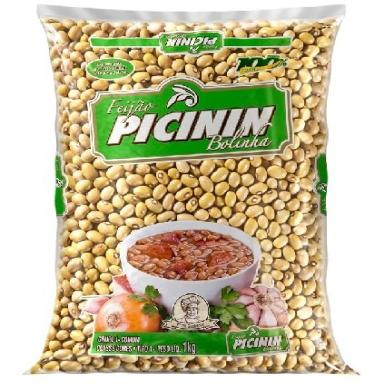beans package: (31, 6, 353, 373)
